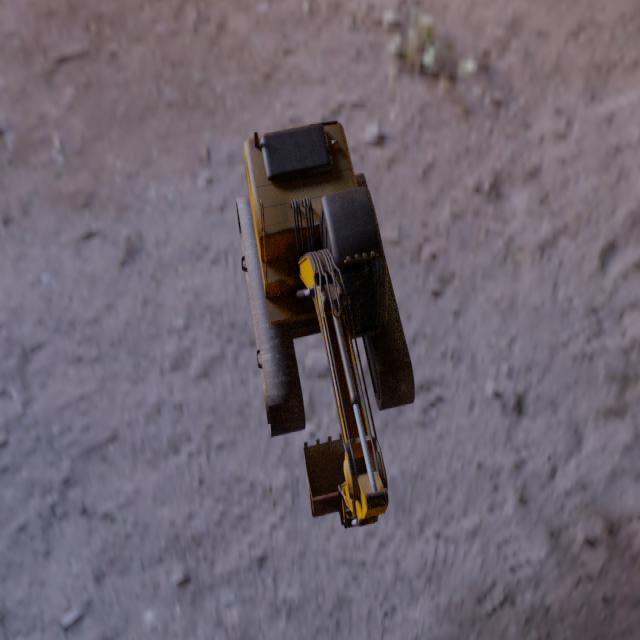excavator: (235, 120, 415, 529)
